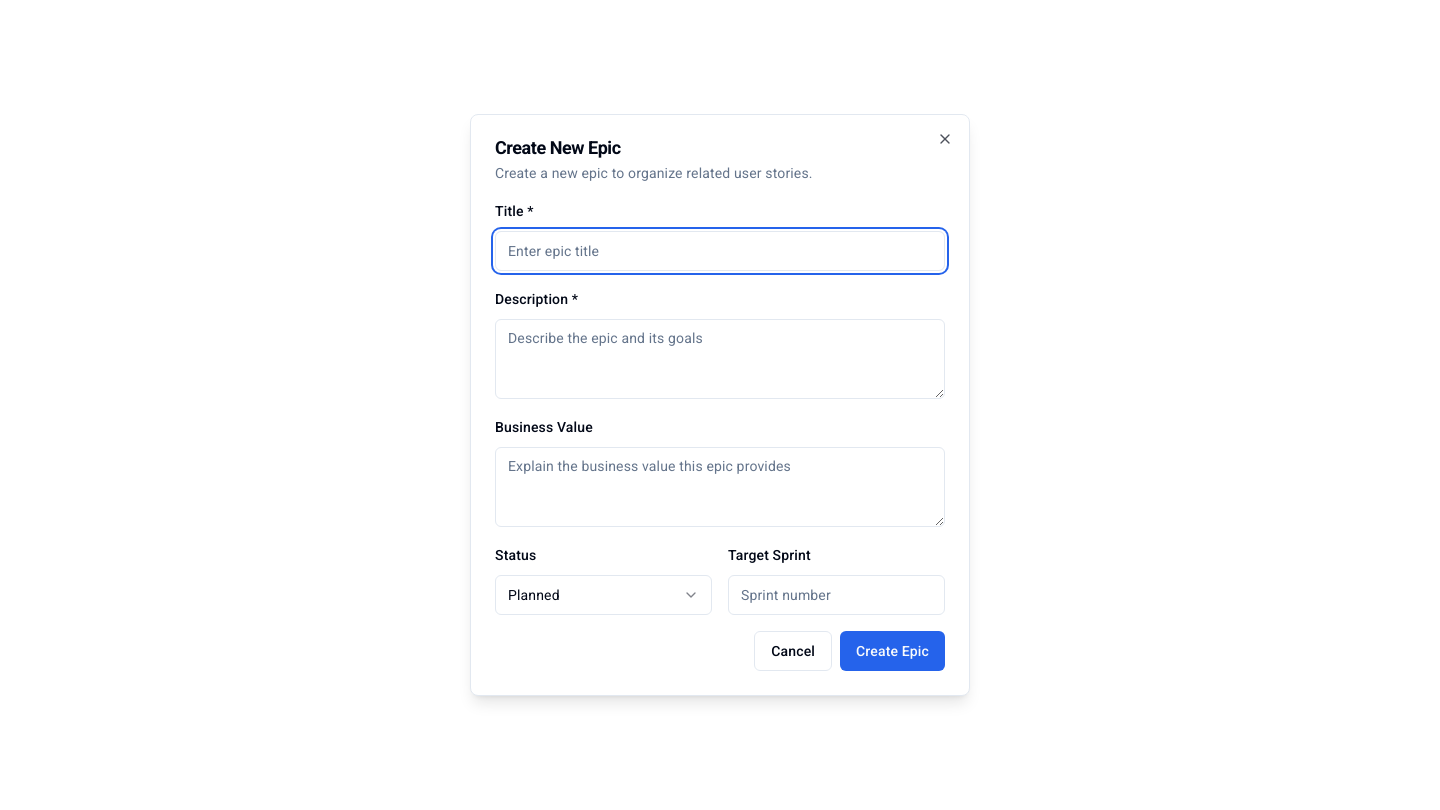
it: EpicForm › validates required fields
Click the button "Create Epic".
click(892, 651)  # box [840,631,945,671]
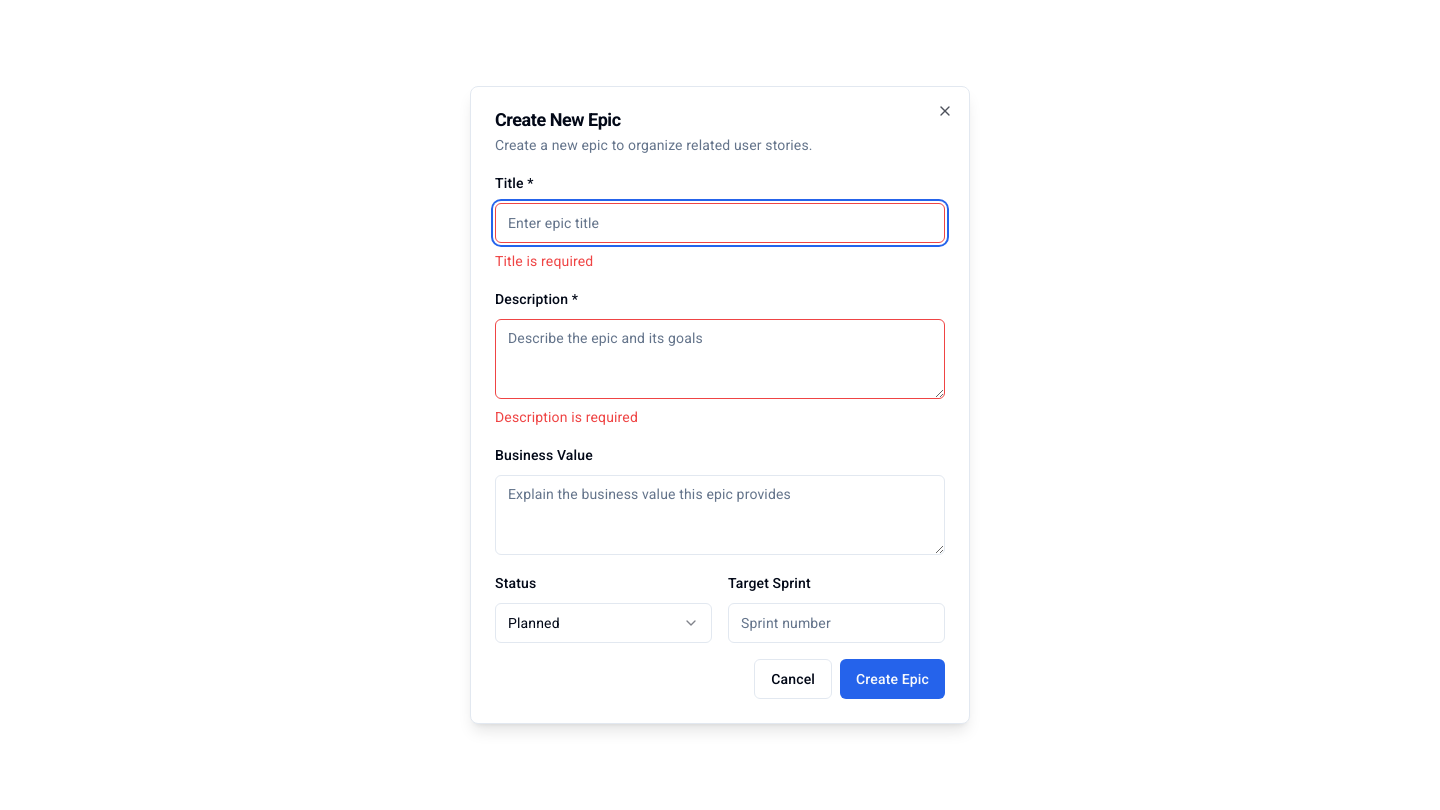
Result: the text "Title is required" is shown at [495,253,593,269]
Result: the text "Description is required" is shown at [495,409,638,425]
